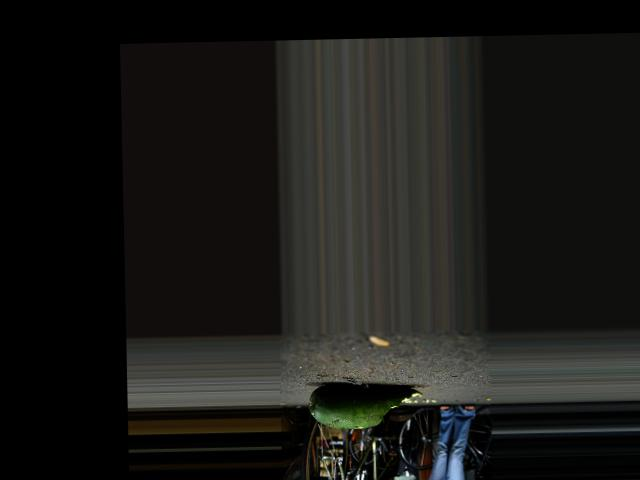cucumber: (309, 382, 425, 429)
